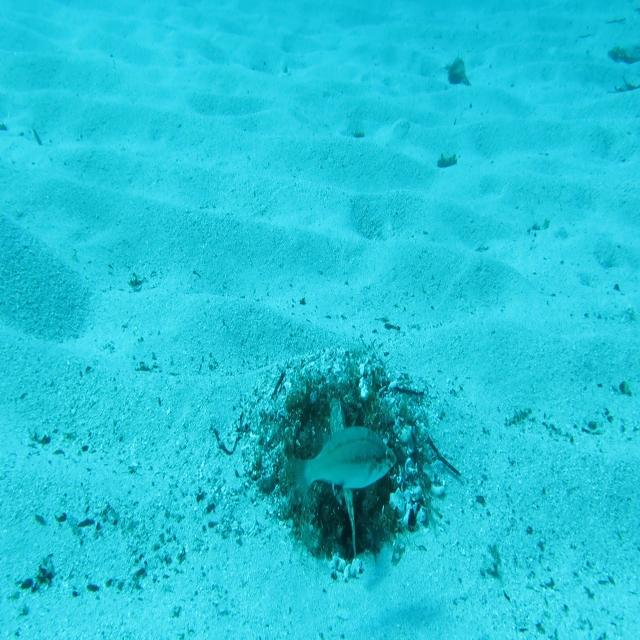ROLL: (327, 391, 360, 563)
core_nest: (313, 399, 363, 432)
female: (283, 423, 398, 508)
nest: (238, 334, 452, 592)
vegetation: (606, 13, 640, 95), (444, 56, 472, 87), (436, 150, 461, 170)
